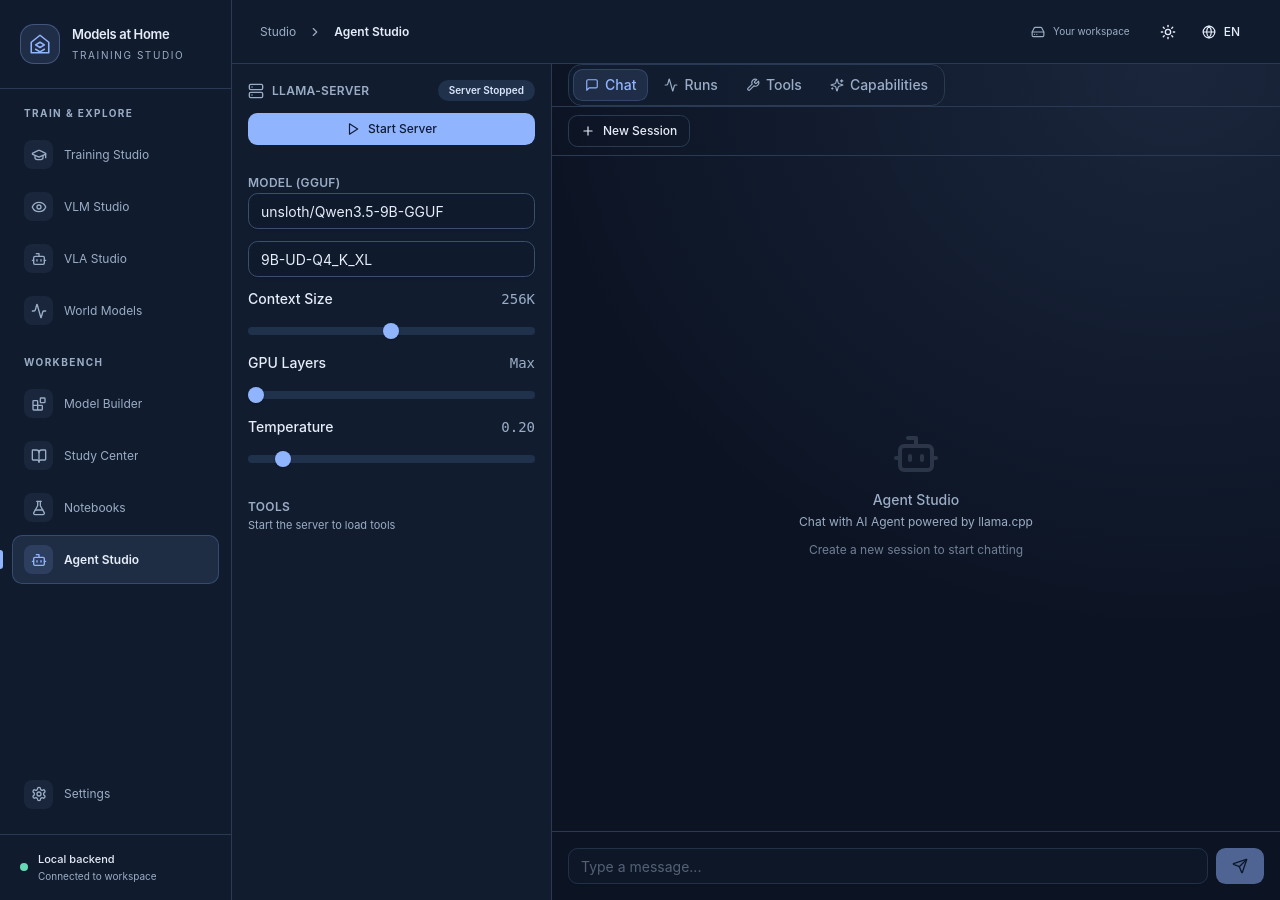
Test case: page smoke tests › AgentStudio survives all tabs and an active legacy session
Expected: the text "Models at Home" is shown, [72,25,184,44]
Click the tab "Chat". click: (611, 85)
box: [573,69,648,101]
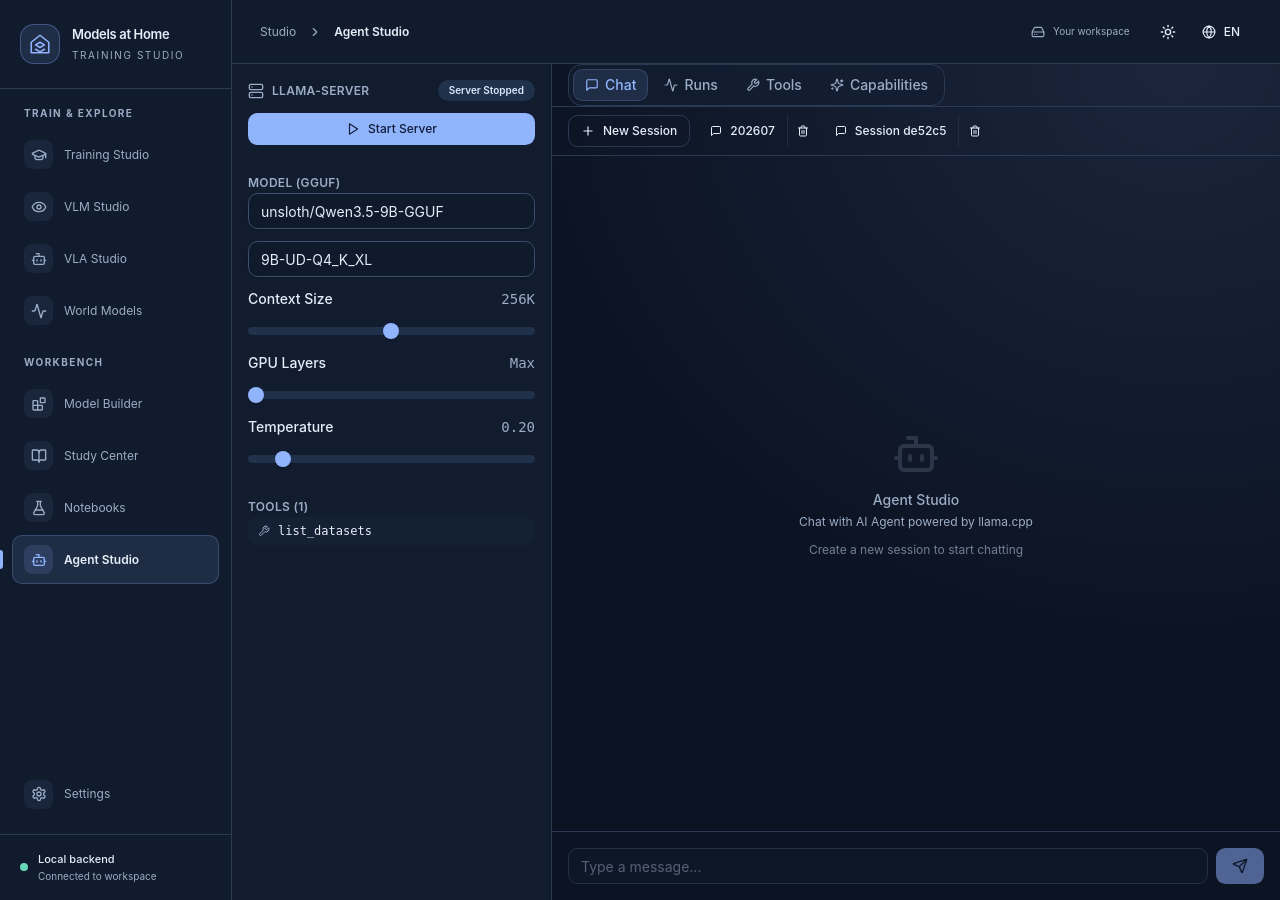
Click the tab "Runs". click: (691, 85)
box: [652,69,730,101]
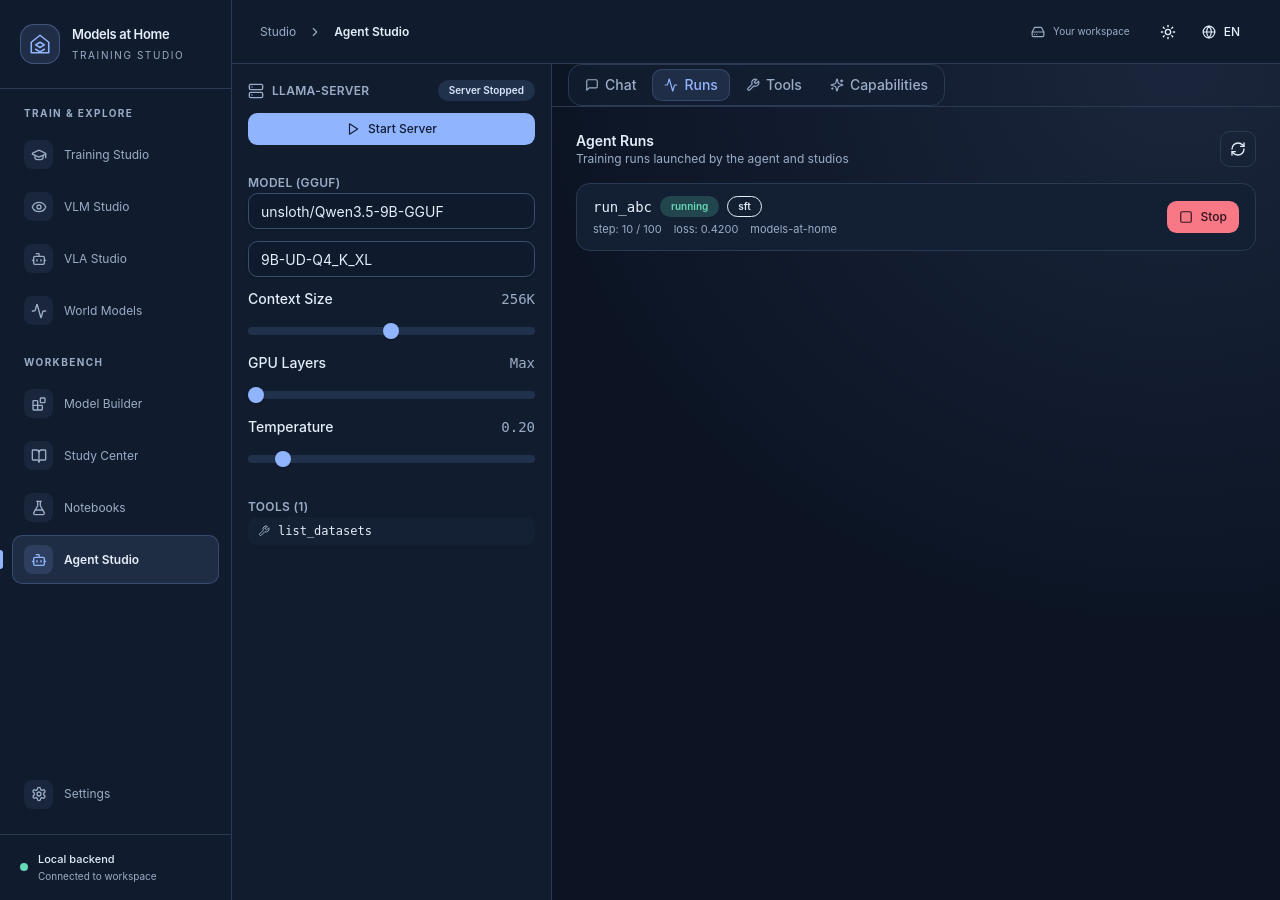
Click the tab "Tools". click: (774, 85)
box: [734,69,814,101]
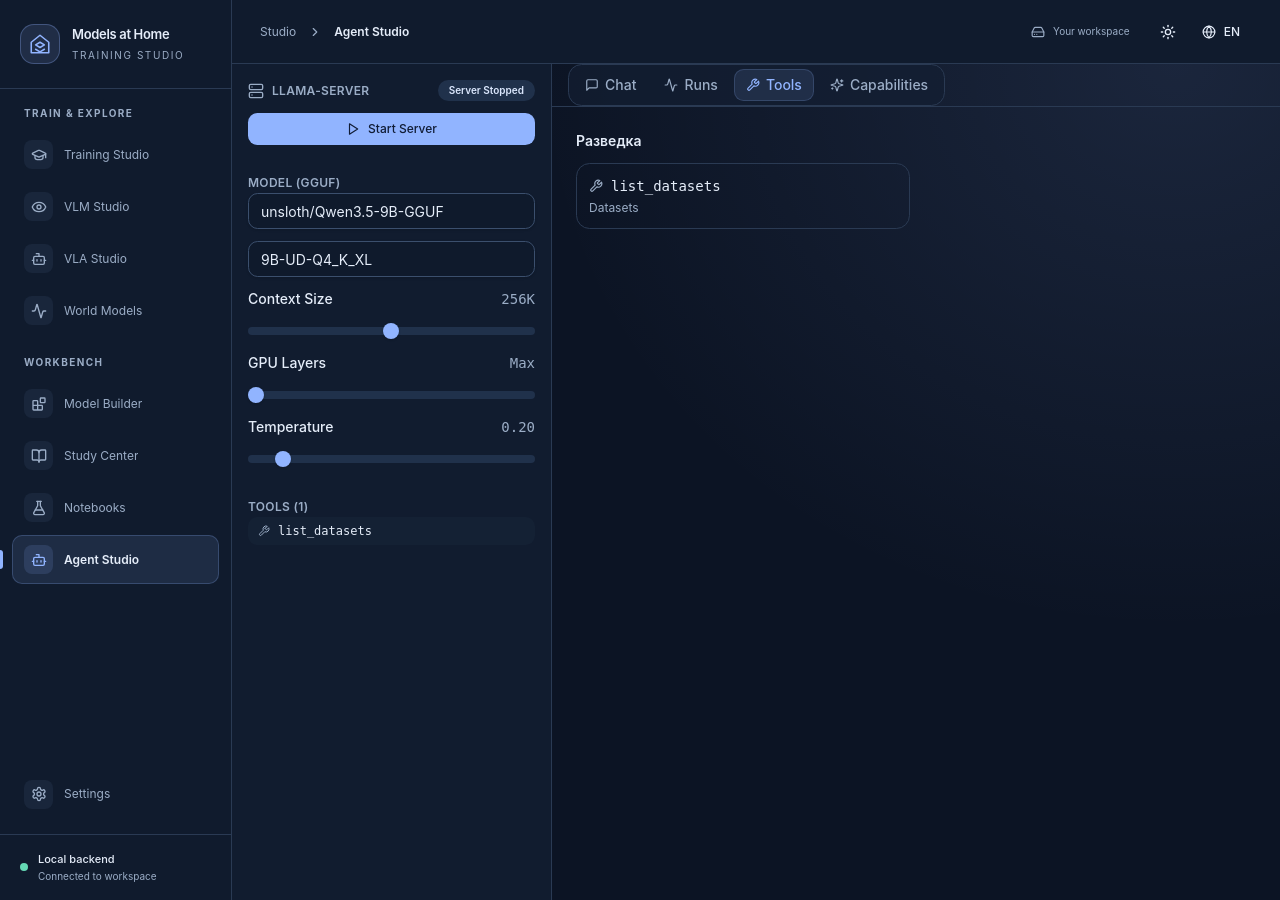
Click the tab "Capabilities". click: (879, 85)
box: [818,69,940,101]
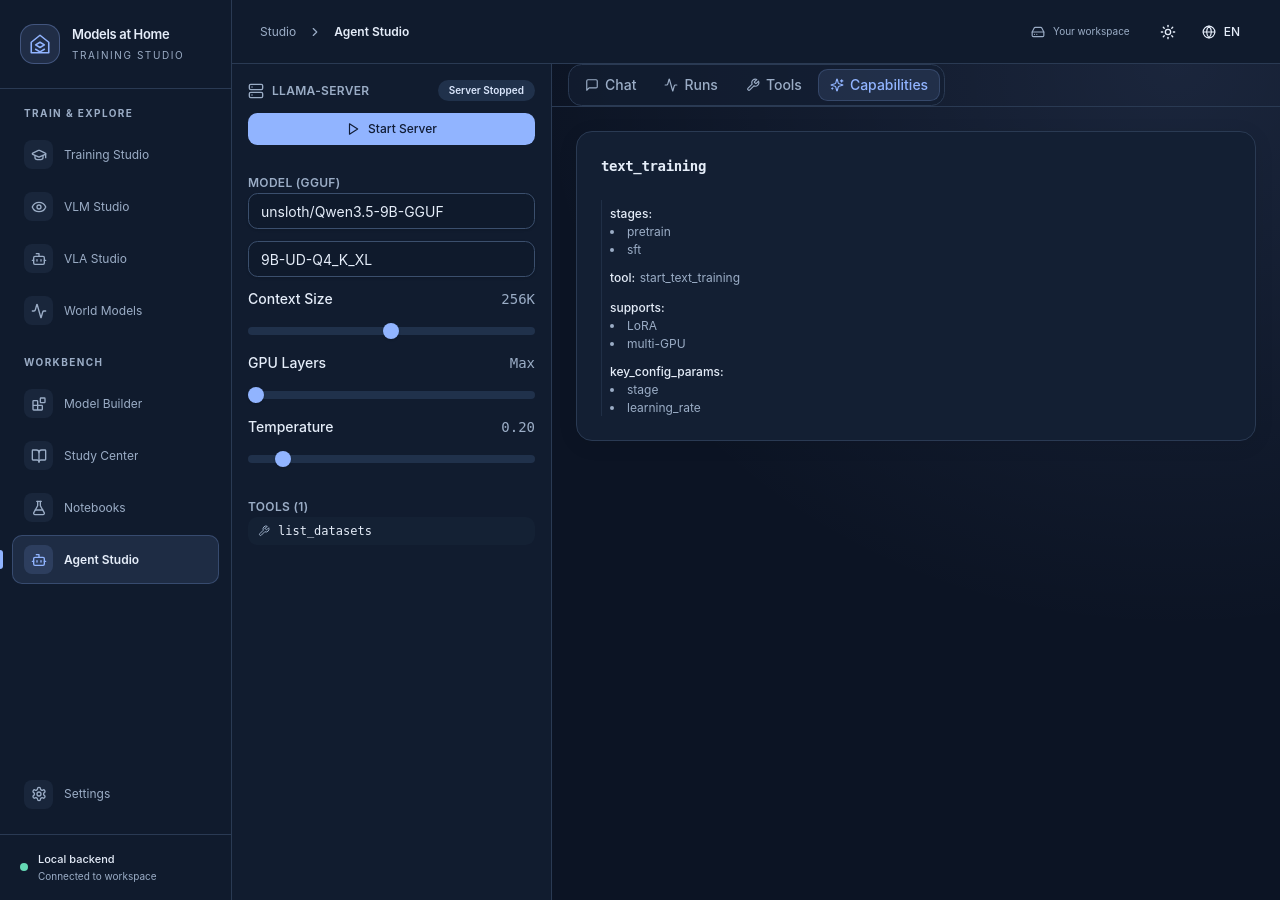
Click the tab "Chat". click: (611, 85)
box: [573,69,648,101]
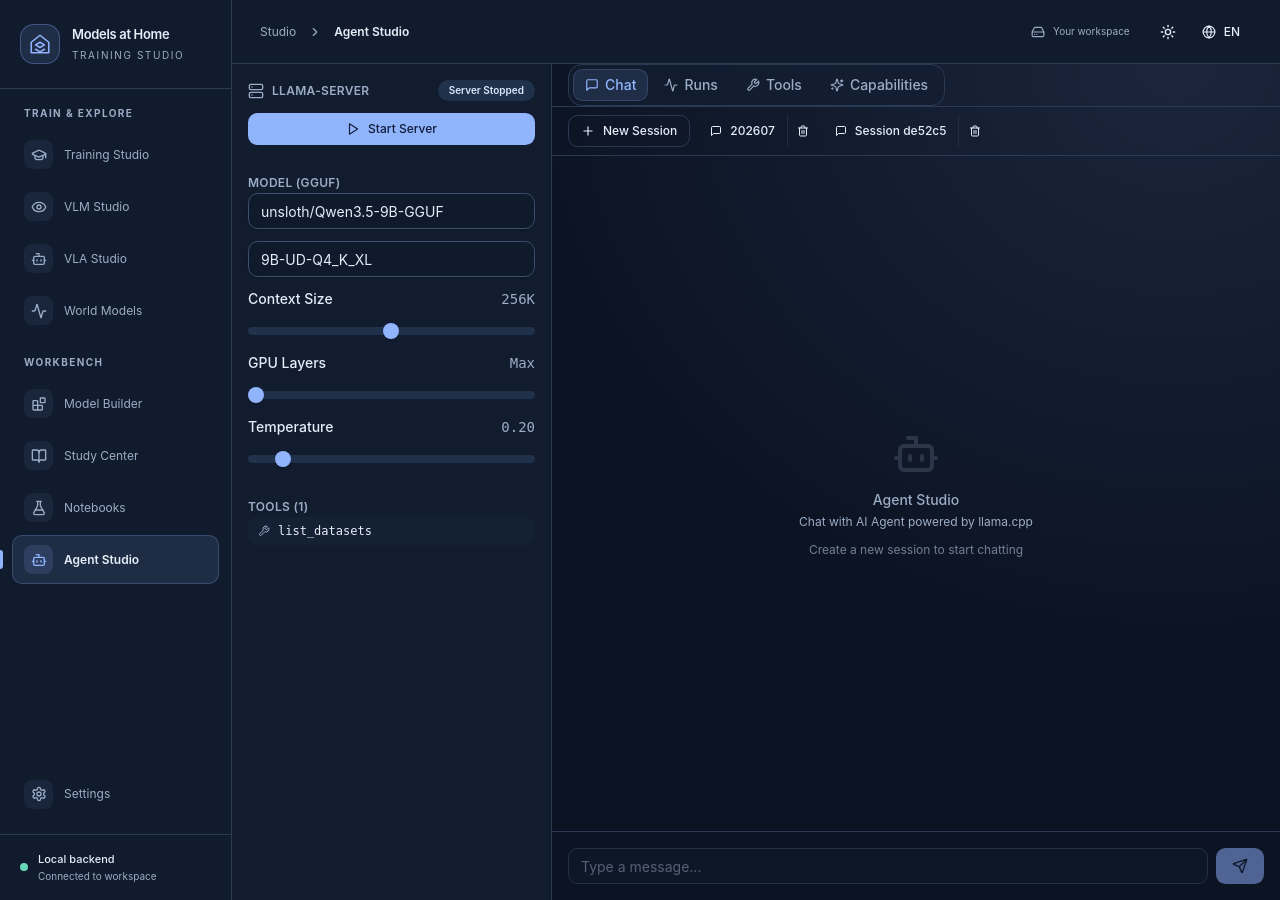
Now the button "202607" is shown
Click the button "202607". click: (743, 131)
box: [698,115,787,147]
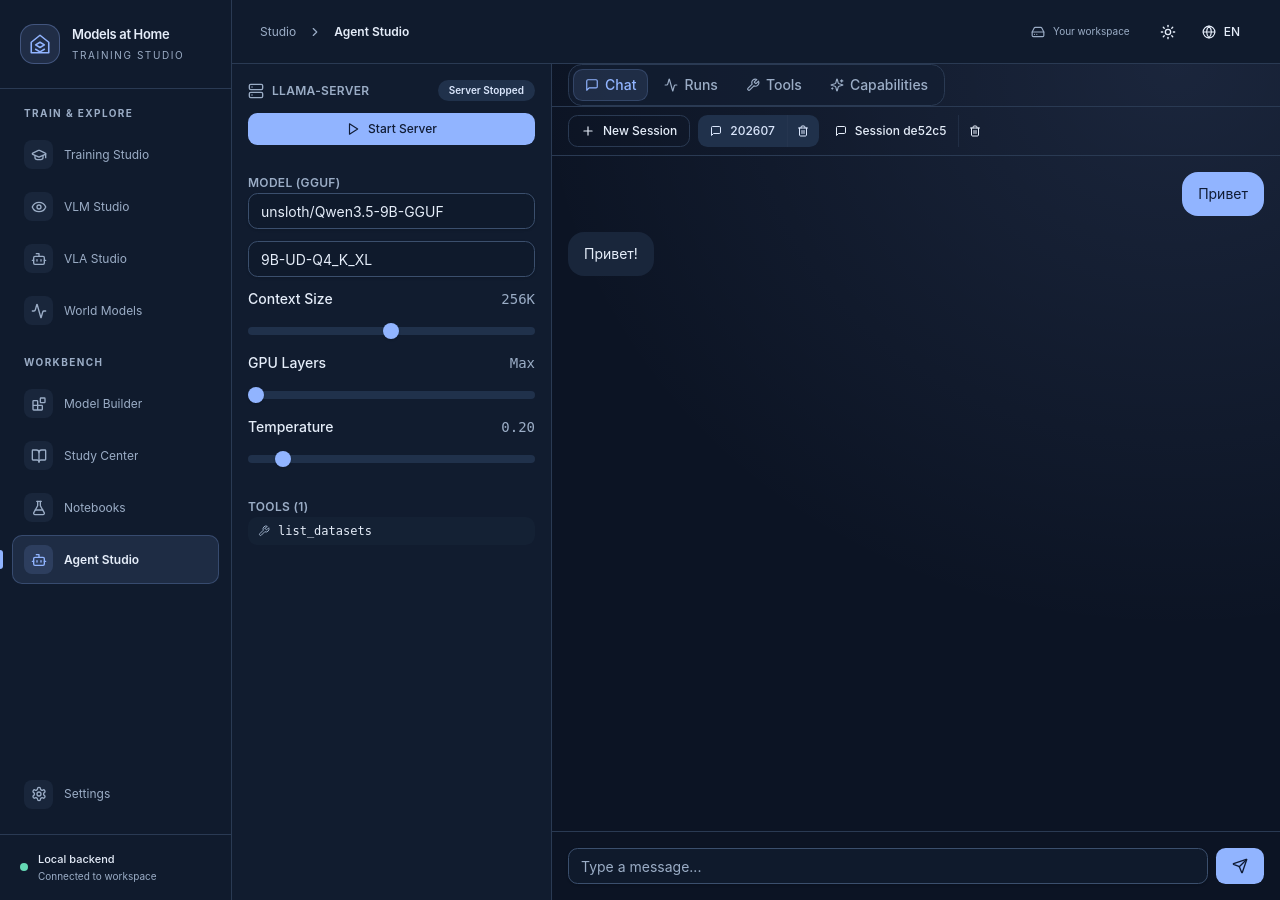
Now the text "Привет" is shown, box [1198,184,1248,204]
